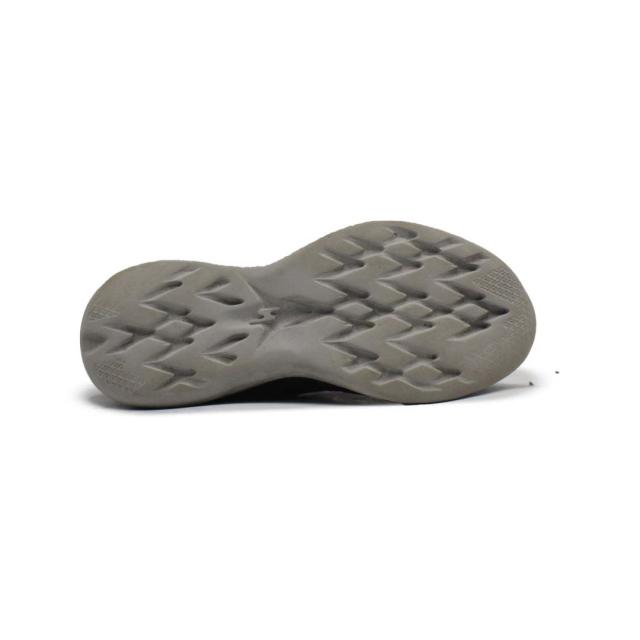outersole: (85, 221, 535, 408)
